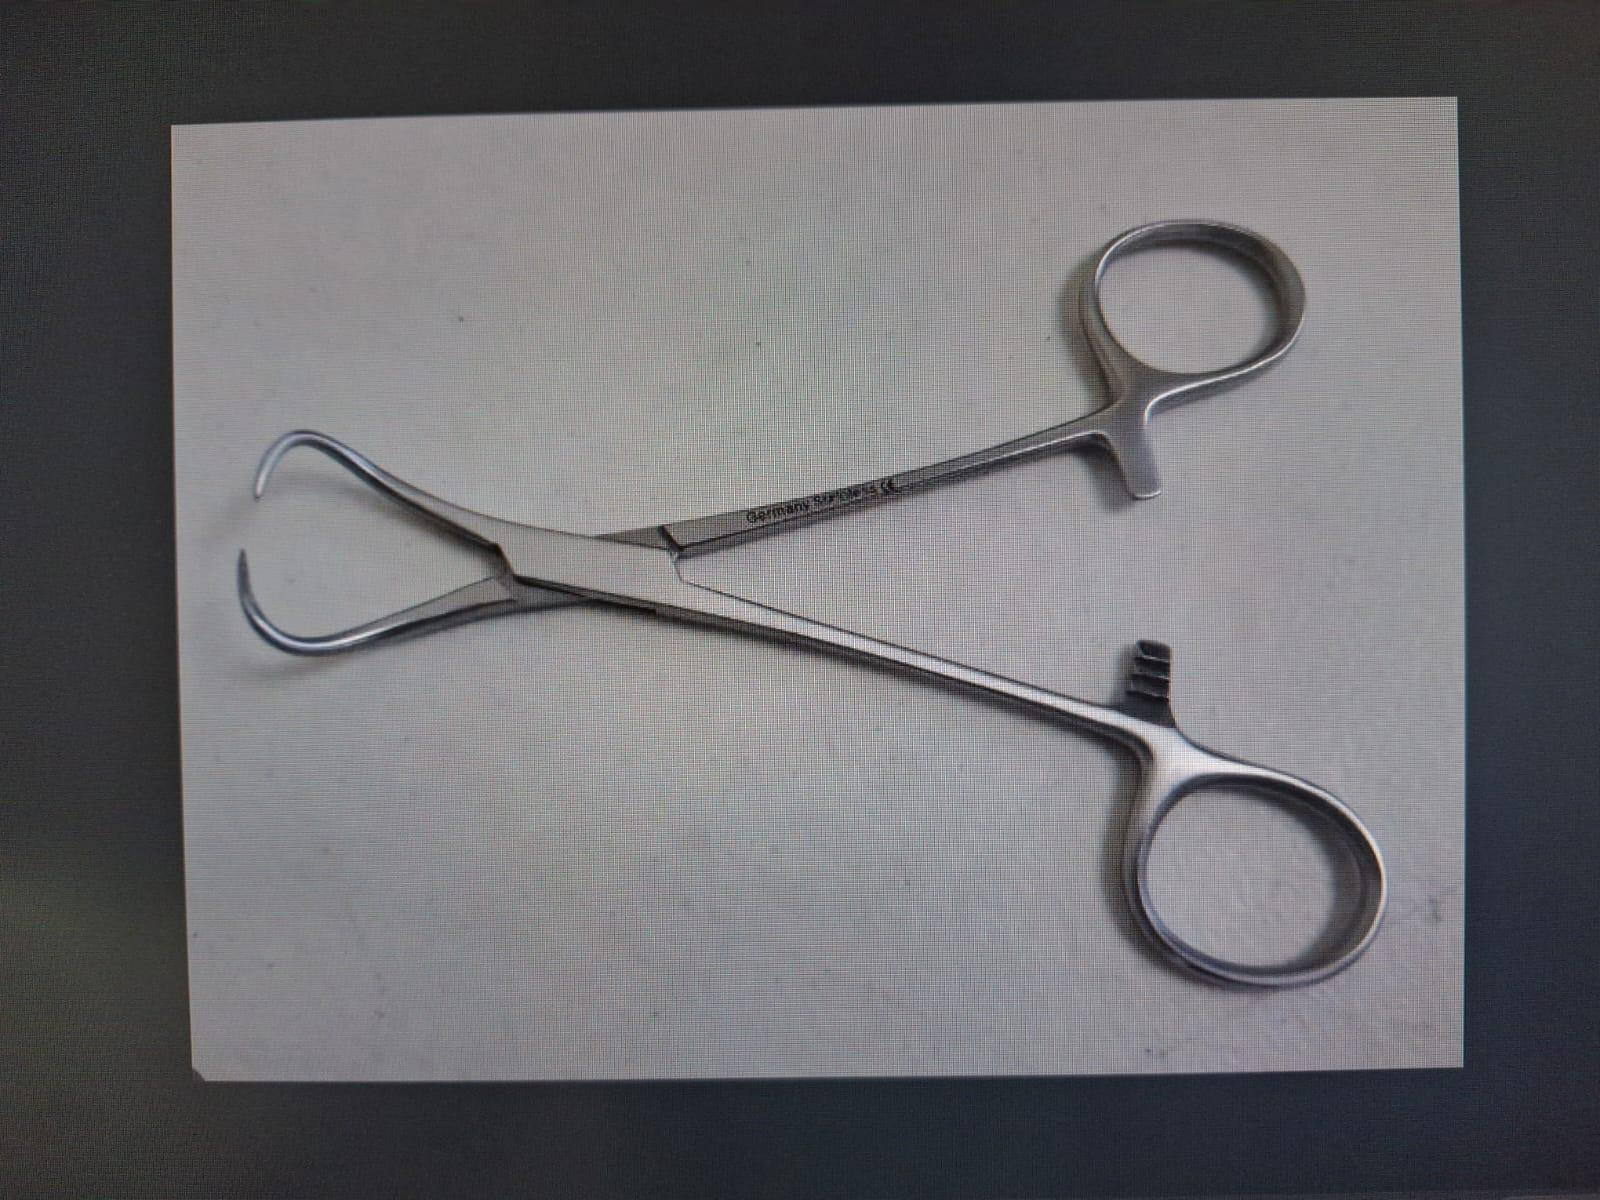Backhaus: (214, 216, 1414, 1000)
